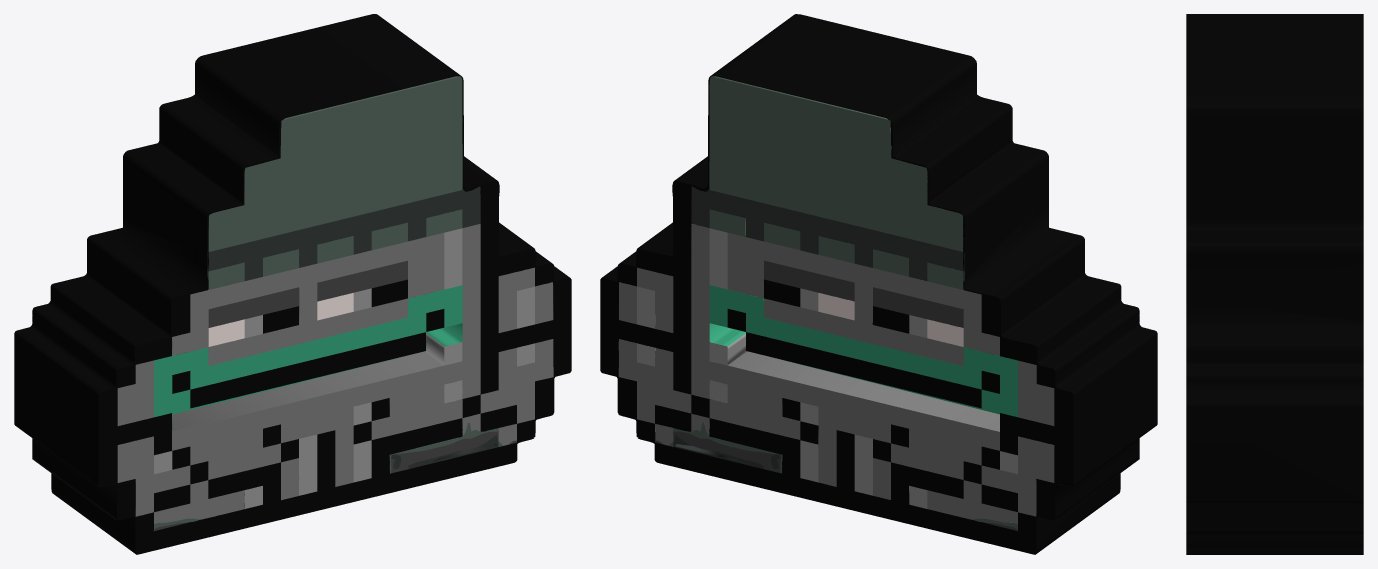
The model's file is Toadz_6441.glb.
3 views of the same model, side by side, from view 1: azimuth 30°, elevation 25°; view 2: azimuth 150°, elevation 25°; view 3: azimuth 270°, elevation 25° (orthographic). The views are drawn at different scales.
Parts seen in each view (by area): view 1: Curve; view 2: Curve; view 3: Curve.
Part boxes in pixels (x1,y1,x2,y2): Curve: (14, 14, 571, 554); Curve: (600, 14, 1157, 554); Curve: (1186, 14, 1363, 554).
Bounding box in the file's own units: 3.25 × 2.63 × 1.
